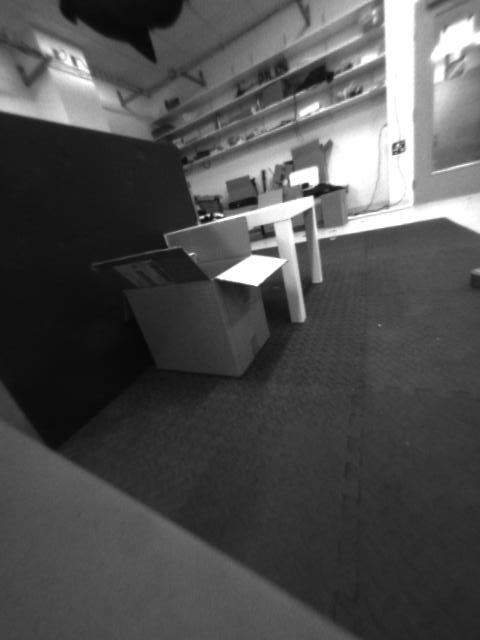dogtoy: (457, 261, 480, 298)
